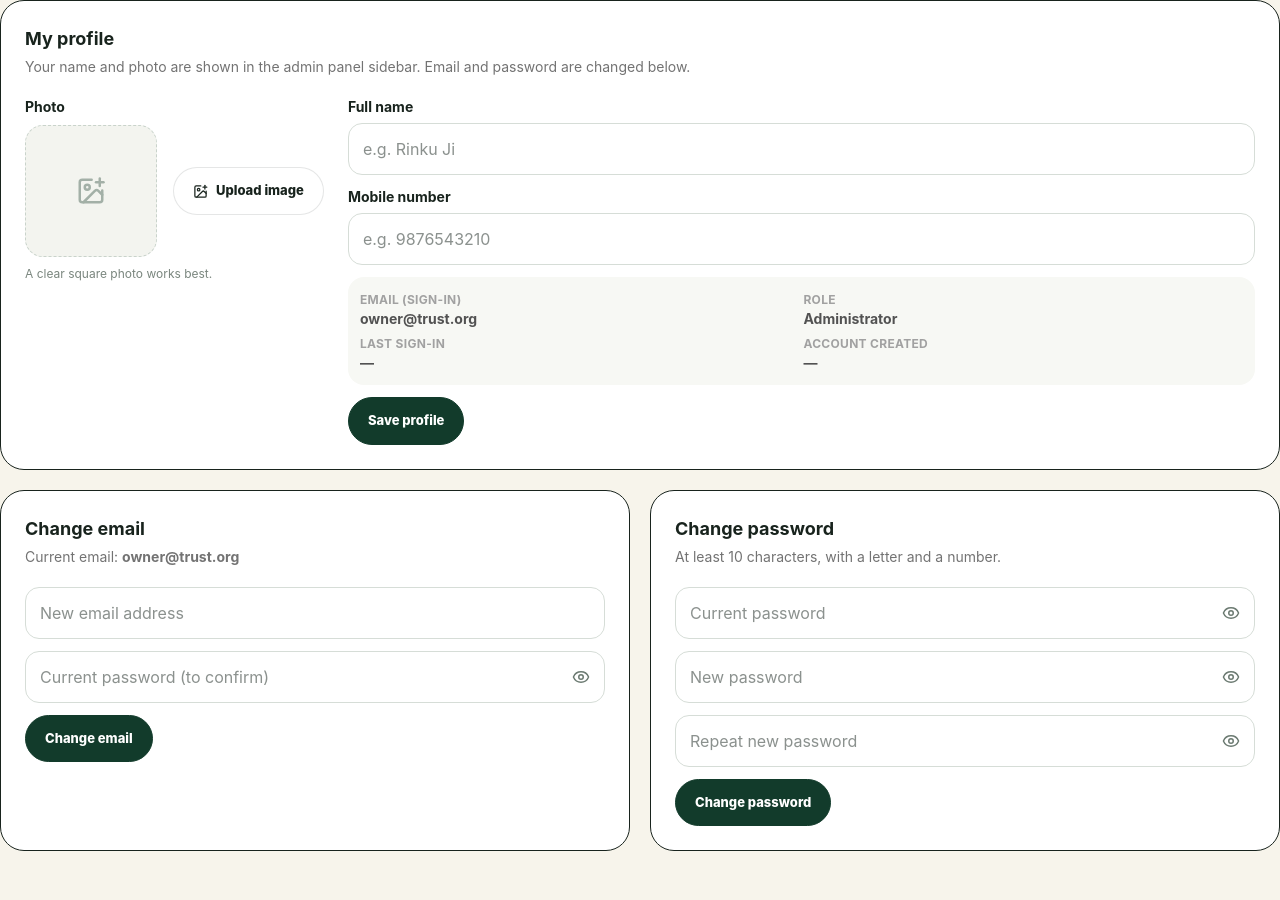
AccountSettings › change email: needs valid email + password, shows duplicate error from server
The image size is (1280, 900).
Type "nope" into the field with placeholder "New email address".
click(315, 612); type("nope")  # box top-left (25, 586), bottom-right (605, 638)
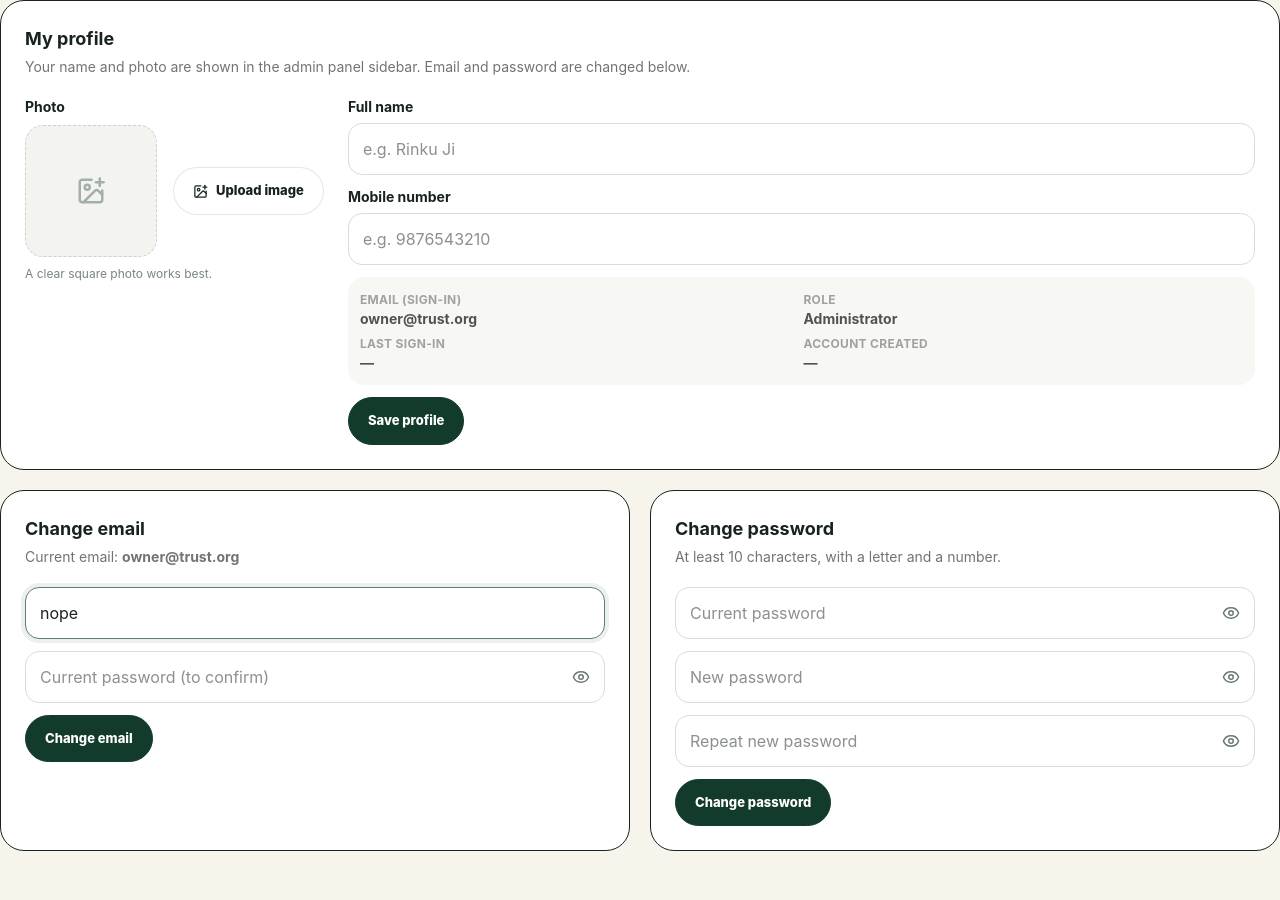
Click the button "Change email".
click(89, 738)  # box top-left (25, 714), bottom-right (153, 762)
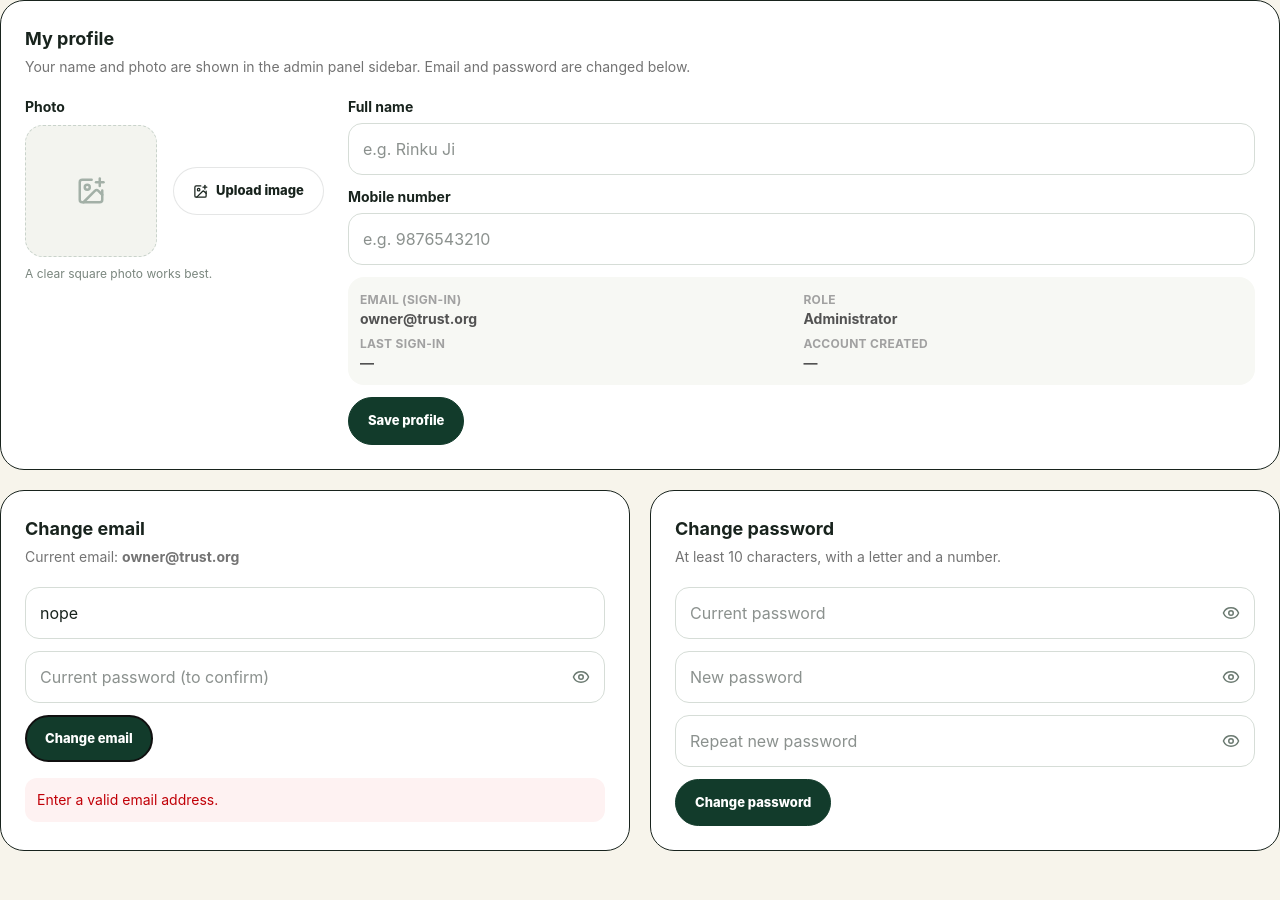
Now the message shows "valid email", box top-left (37, 791), bottom-right (218, 808)
Replace the text in the field with placeholder "New email address" with "staff@trust.org" at (315, 612), box top-left (25, 586), bottom-right (605, 638)
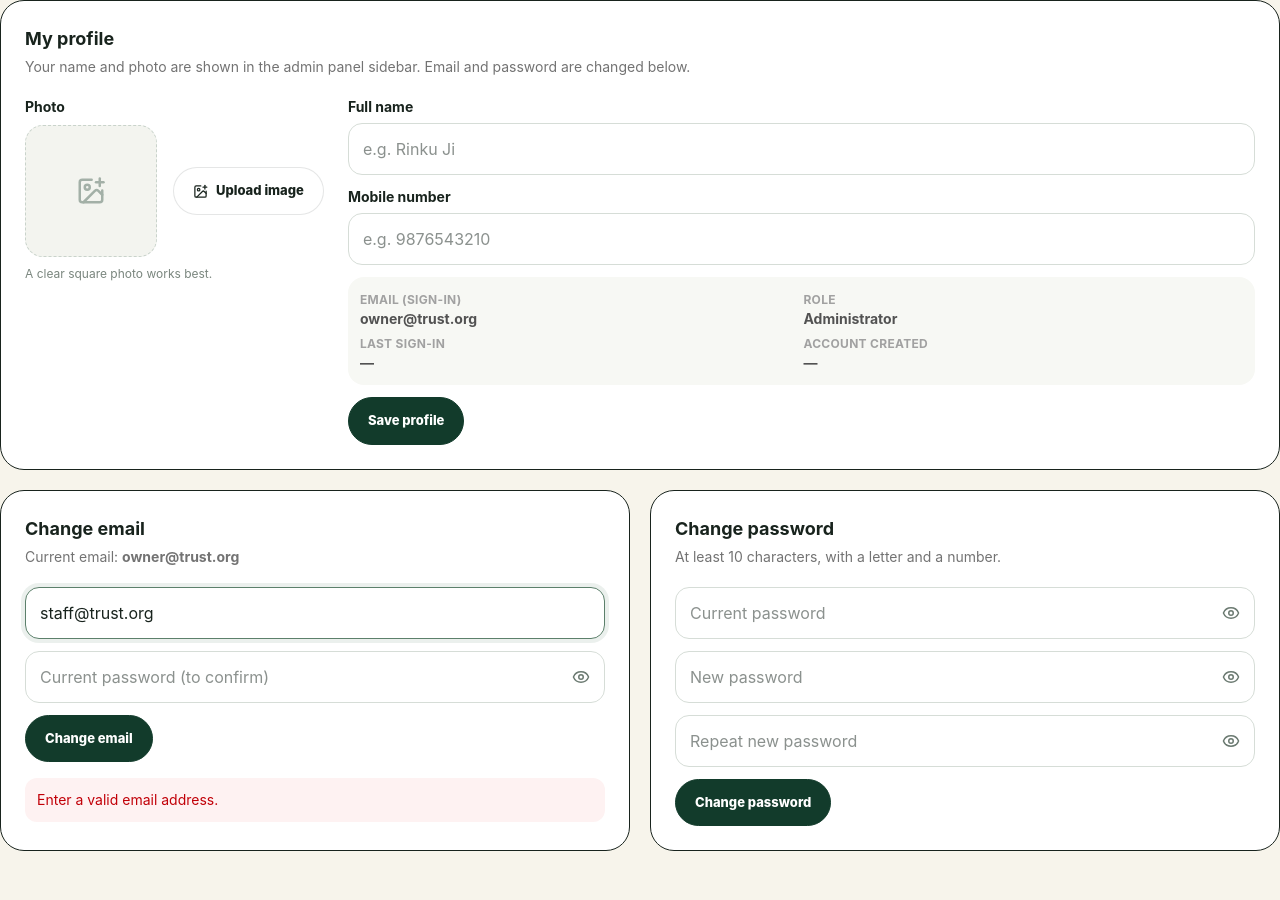
Type "Old-password-123" into the password field with placeholder "Current password (to confirm)".
click(315, 676); type("Old-password-123")  # box top-left (25, 650), bottom-right (605, 702)
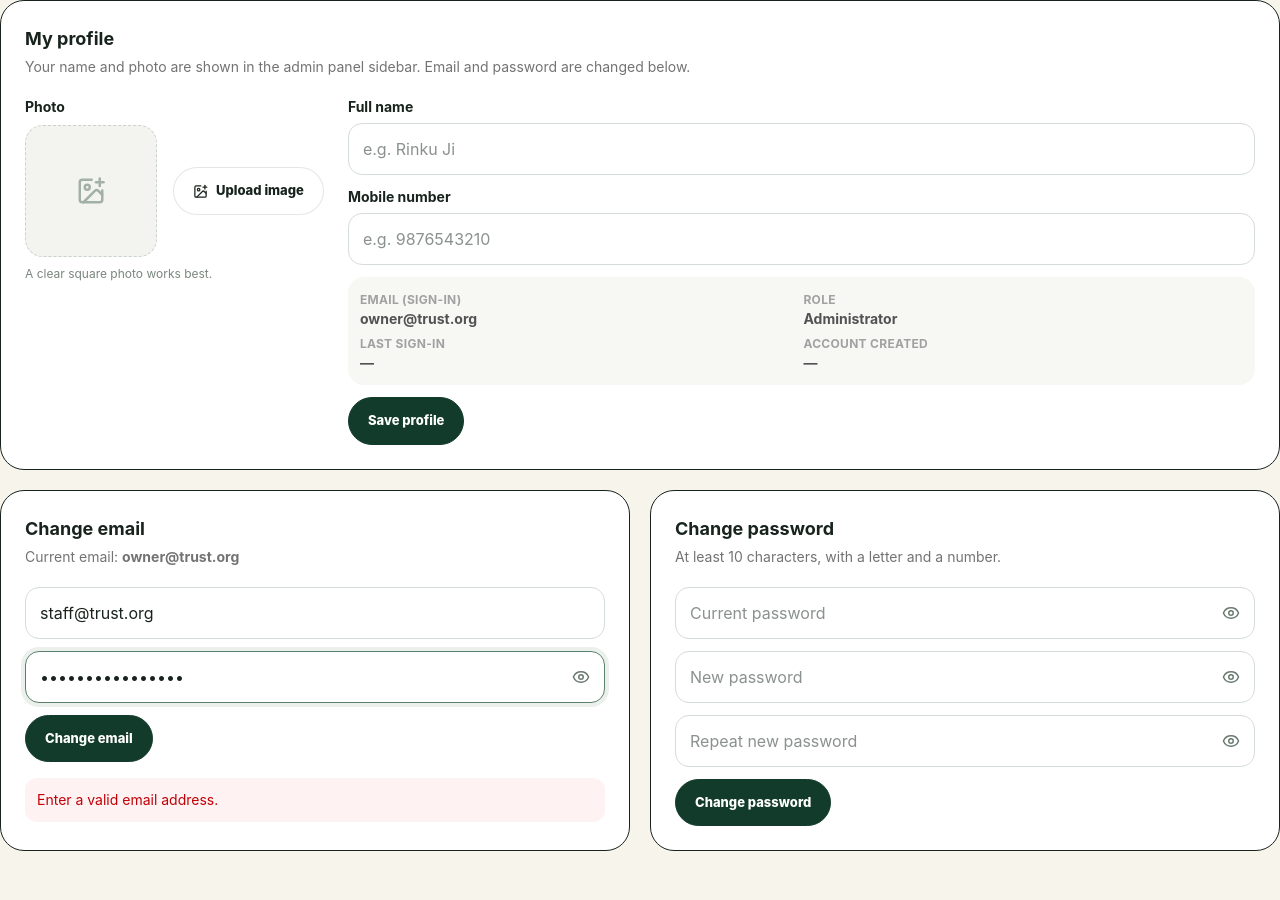
Click the button "Change email".
click(89, 738)  # box top-left (25, 714), bottom-right (153, 762)
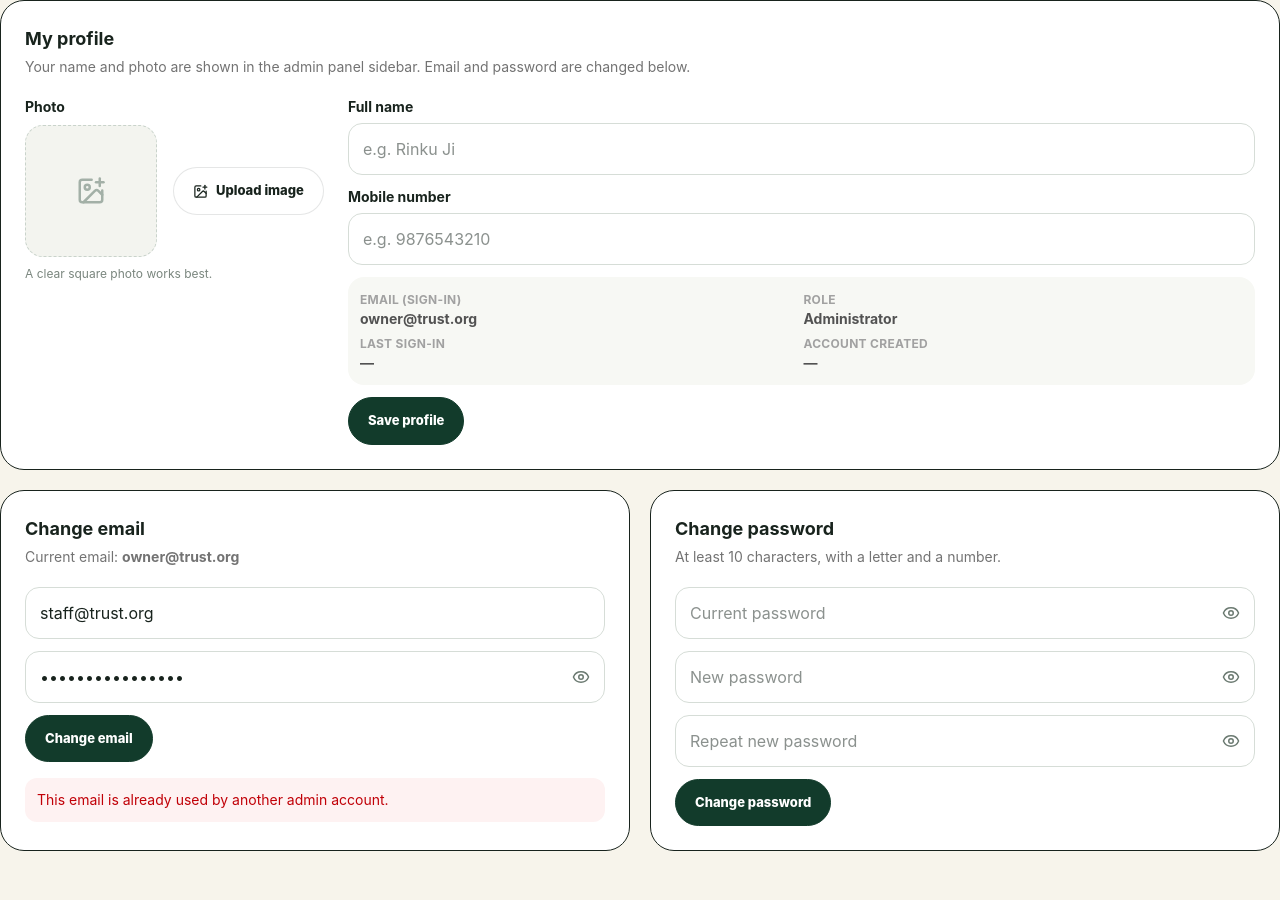
Now the message shows "already used", box top-left (37, 791), bottom-right (389, 808)
